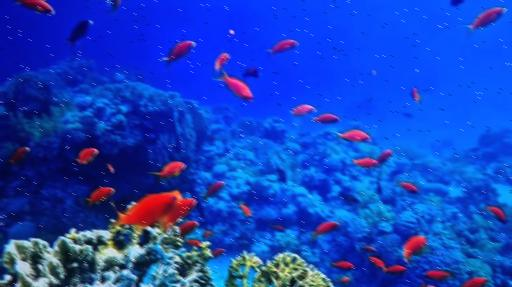Fish: (114, 190, 197, 231), (213, 69, 253, 101), (215, 70, 252, 101), (466, 7, 505, 33), (161, 41, 195, 68), (352, 149, 393, 168), (402, 235, 428, 264), (160, 40, 195, 61), (148, 161, 186, 180), (147, 162, 185, 181), (368, 256, 406, 273), (85, 187, 114, 209), (87, 187, 114, 209), (311, 221, 339, 240), (333, 129, 370, 142), (266, 39, 298, 53), (201, 181, 225, 199), (23, 0, 53, 14), (74, 148, 98, 164), (74, 148, 97, 163), (9, 147, 29, 164), (485, 206, 506, 222), (178, 221, 198, 237), (312, 113, 339, 123), (291, 104, 315, 115), (398, 181, 418, 193), (215, 54, 229, 71), (425, 270, 451, 279), (238, 203, 252, 217), (410, 87, 421, 102), (189, 239, 201, 247), (112, 0, 117, 13), (451, 0, 461, 6)
